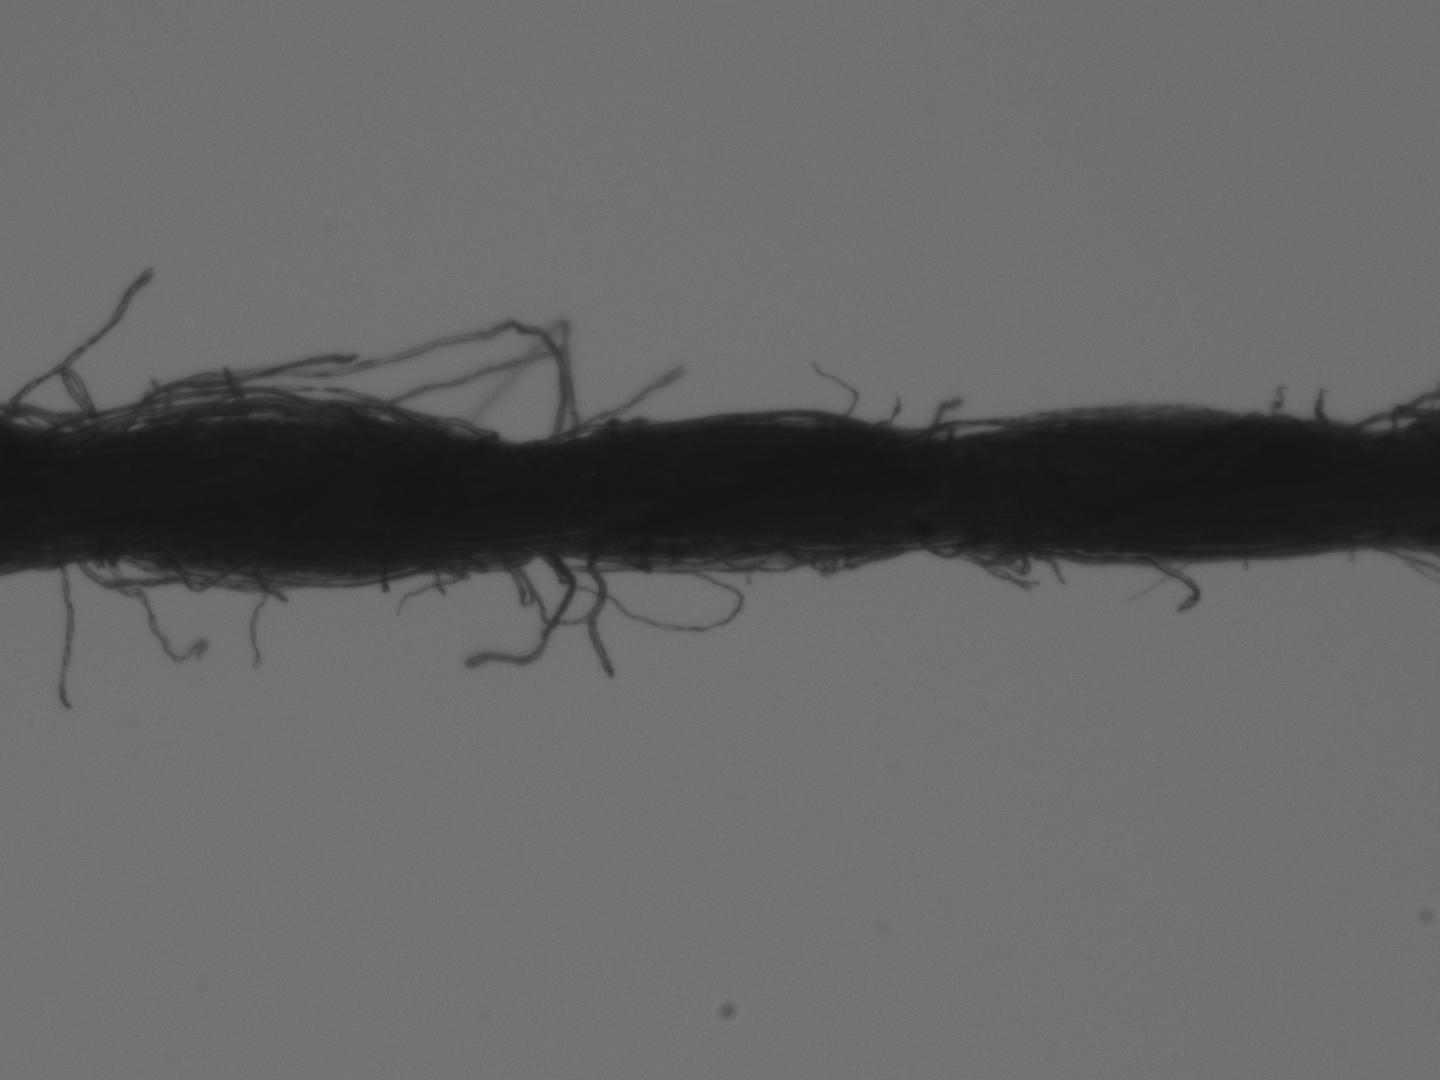loop_fiber: (121, 318, 574, 441), (183, 385, 354, 425), (66, 556, 185, 591), (781, 543, 879, 575), (910, 414, 1008, 441), (1356, 406, 1430, 432), (967, 549, 1025, 577)
protruding_fiber: (6, 263, 156, 414), (463, 558, 574, 677), (552, 362, 692, 439), (52, 550, 81, 712), (1145, 559, 1202, 617), (876, 397, 904, 427), (1315, 388, 1323, 417)
